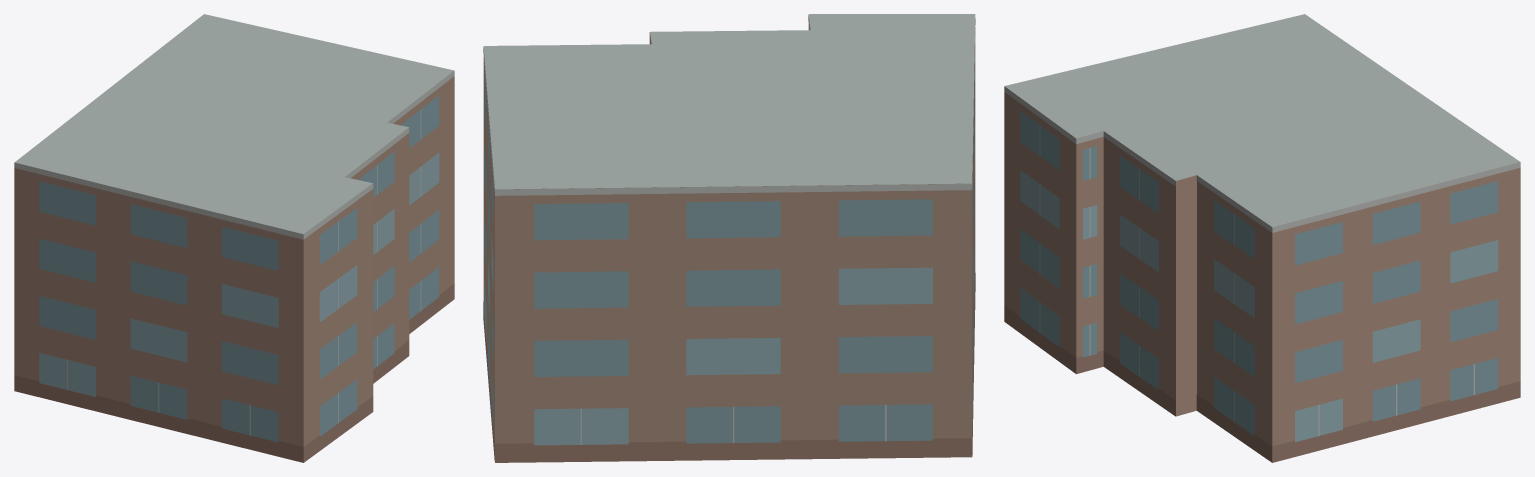
Rendered from survey-upis-32703274.glb.
The picture shows the model from 3 angles, left to right: view 1: azimuth 30°, elevation 25°; view 2: azimuth 150°, elevation 25°; view 3: azimuth 270°, elevation 25°; orthographic projection. The views are drawn at different scales.
Visible parts, largest first — view 1: survey-upis-32703274.tmp; view 2: survey-upis-32703274.tmp; view 3: survey-upis-32703274.tmp.
Part boxes in pixels (box(x1,y1,x2,y2)): survey-upis-32703274.tmp: box(14, 14, 454, 462); survey-upis-32703274.tmp: box(483, 14, 975, 462); survey-upis-32703274.tmp: box(1004, 14, 1520, 462).
Bounding box in the file's own units: 19.82 × 10.2 × 20.27.
